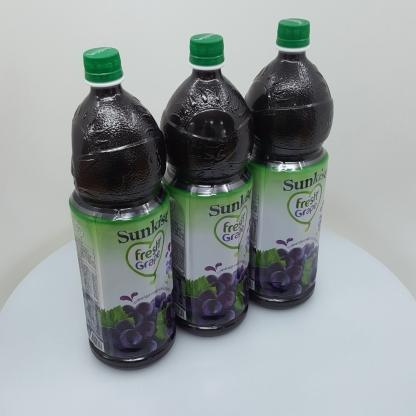-------50_1-5L: (69, 47, 176, 371), (160, 33, 255, 337), (240, 18, 334, 310)
